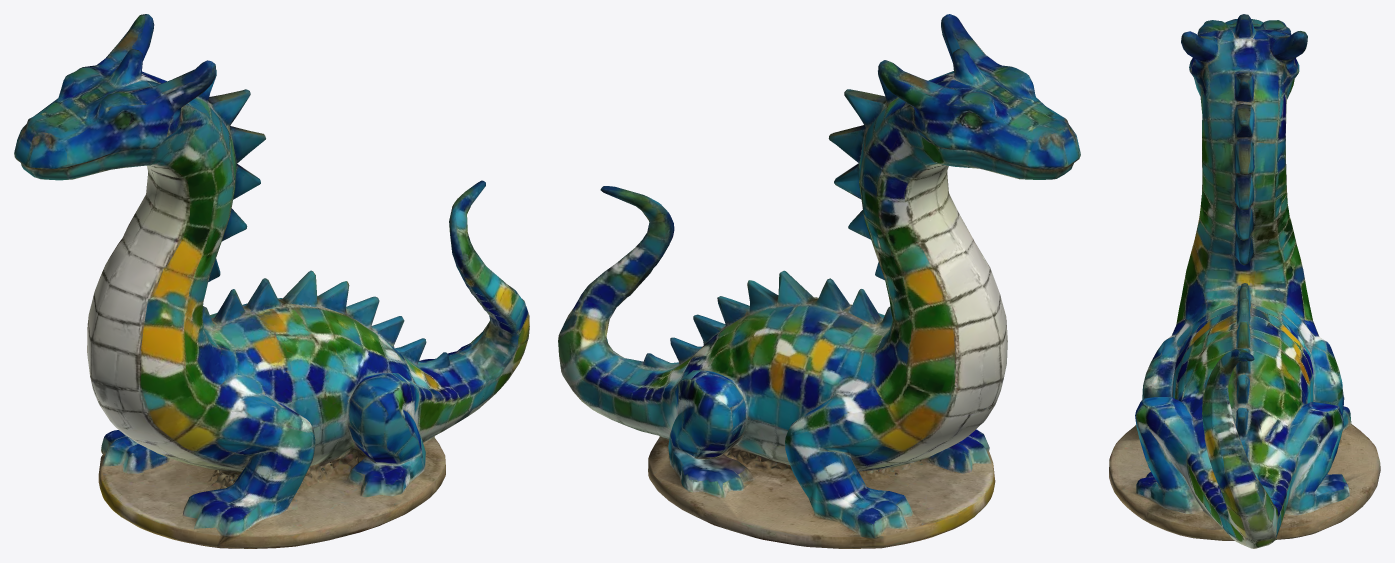
File: barcelona-drac.glb
The picture shows the model from 3 angles, left to right: view 1: azimuth 30°, elevation 25°; view 2: azimuth 150°, elevation 25°; view 3: azimuth 270°, elevation 25°; orthographic projection. The views are drawn at different scales.
Parts seen in each view (by area): view 1: geometry_0; view 2: geometry_0; view 3: geometry_0.
Boxes of the visible parts, x1,y1,x2,y2 form: geometry_0: [14, 14, 529, 548]; geometry_0: [558, 14, 1080, 548]; geometry_0: [1109, 14, 1380, 548].
Size of the model in its own units: 1 by 0.8766 by 0.531.
Materials: 1 (1 with a texture image).
